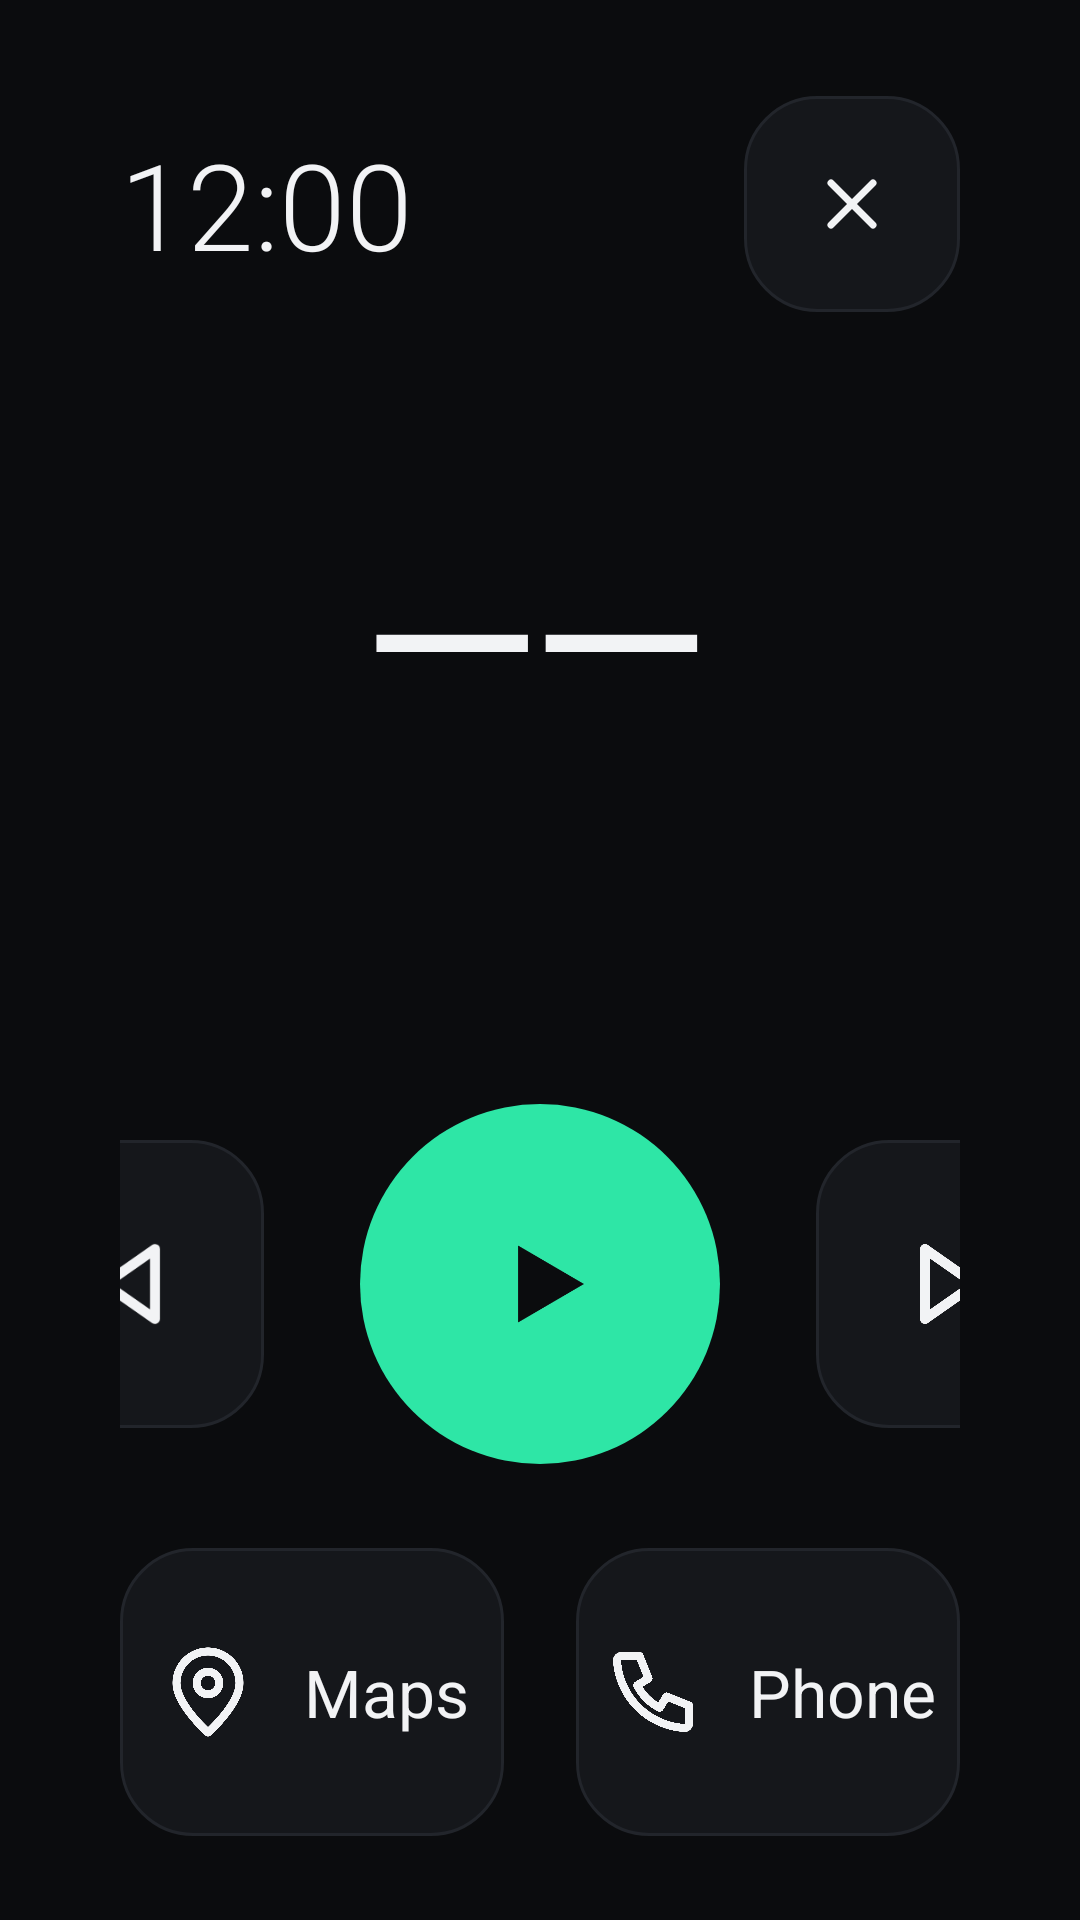

Screen size 1080px×1920px. Icon name, then its center in pixels as (x,y):
Leave driving mode: (852,204)
Play: (540,1284)
